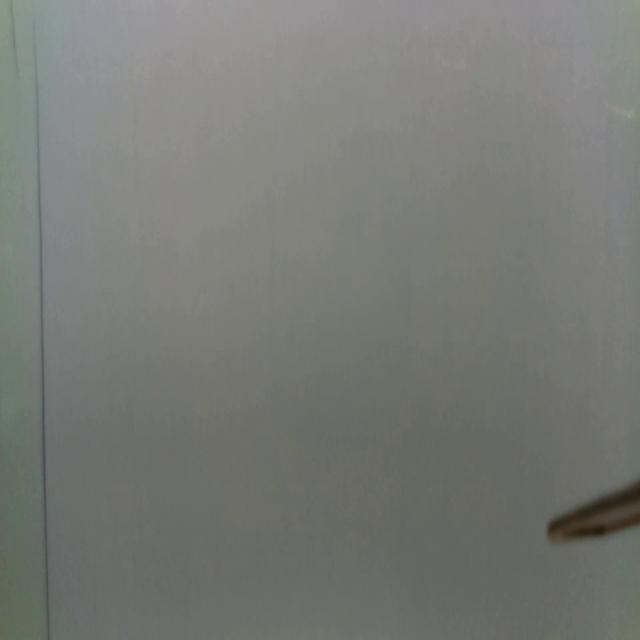crease: (31, 22, 51, 640), (9, 0, 21, 79)
